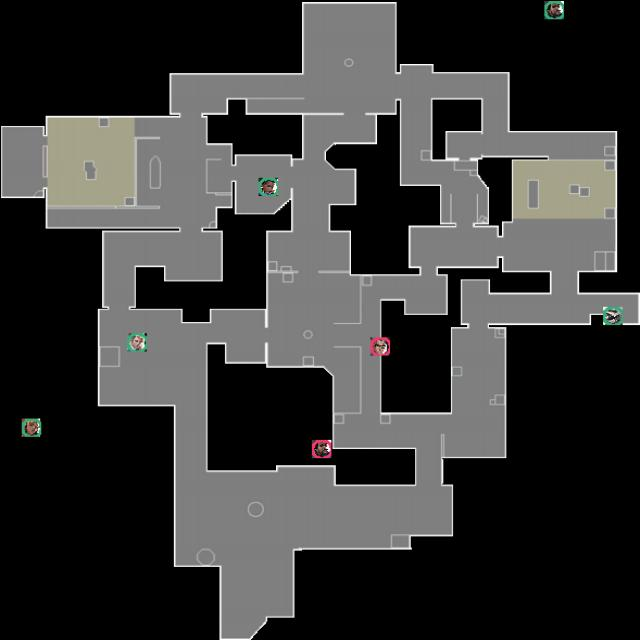atk_chamber: (371, 337, 390, 356)
atk_harbor: (312, 440, 331, 458)
def_astra: (259, 178, 278, 196)
def_cypher: (603, 307, 623, 325)
def_harbor: (544, 1, 564, 19)
def_raze: (22, 418, 41, 437)
def_sova: (127, 333, 147, 352)
